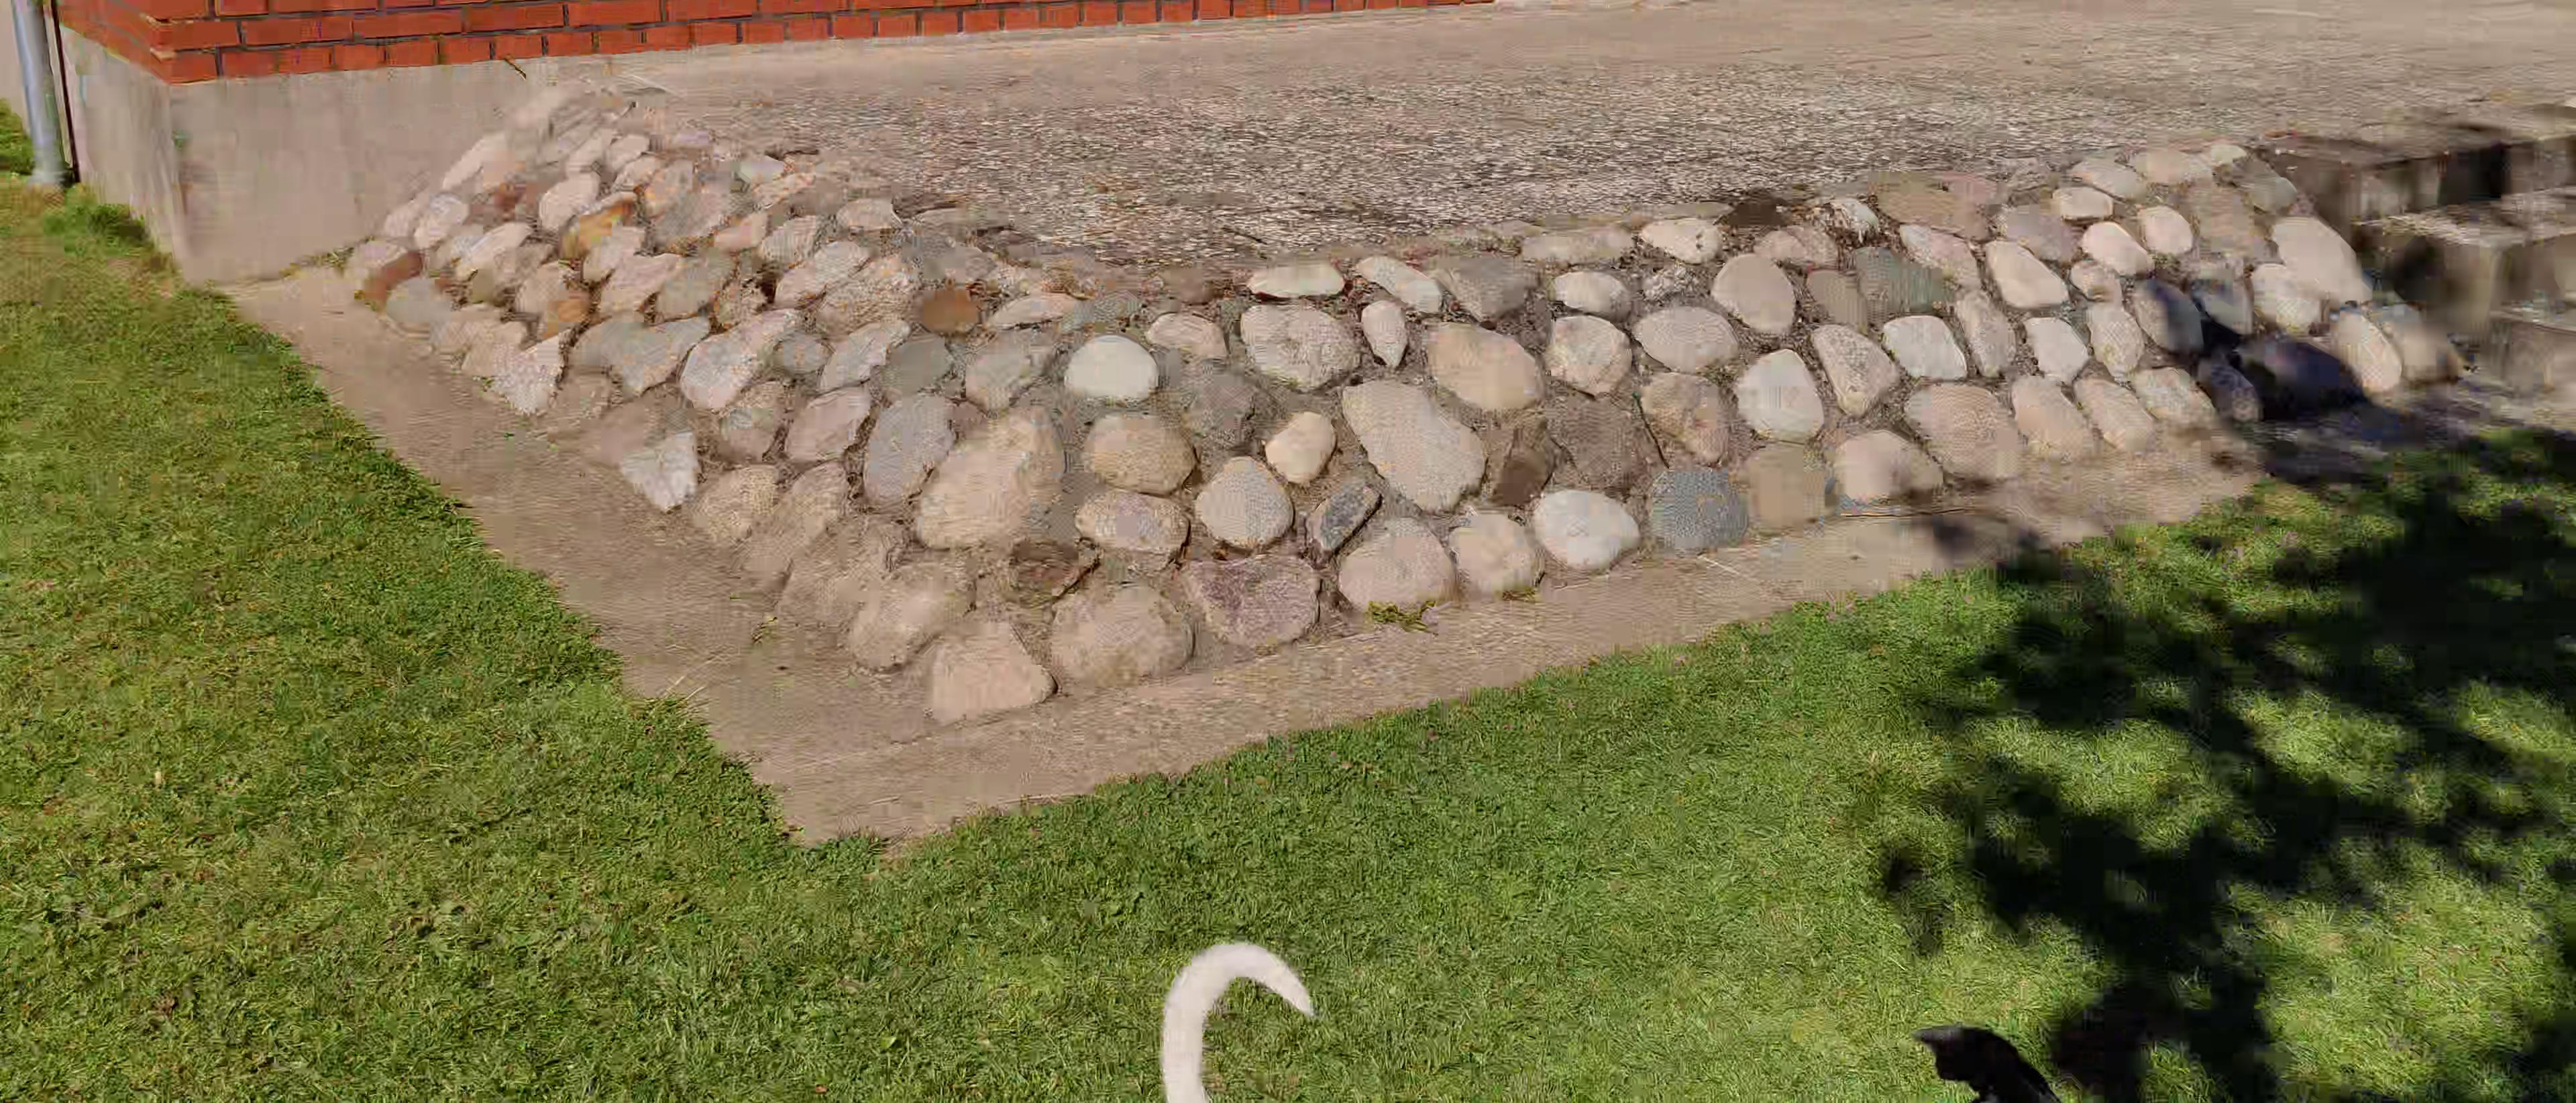Dog: (1147, 935, 1337, 1103)
